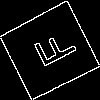F: (25, 25, 78, 74)
